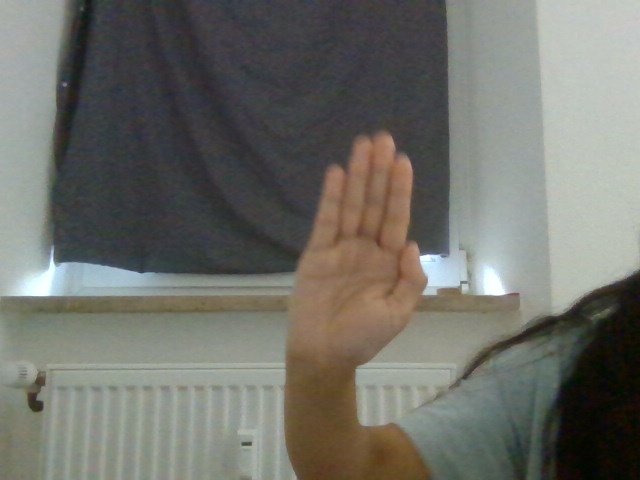Palm: (280, 124, 432, 371)
